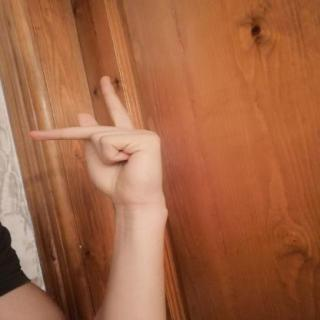DHAA: (17, 68, 175, 207)
